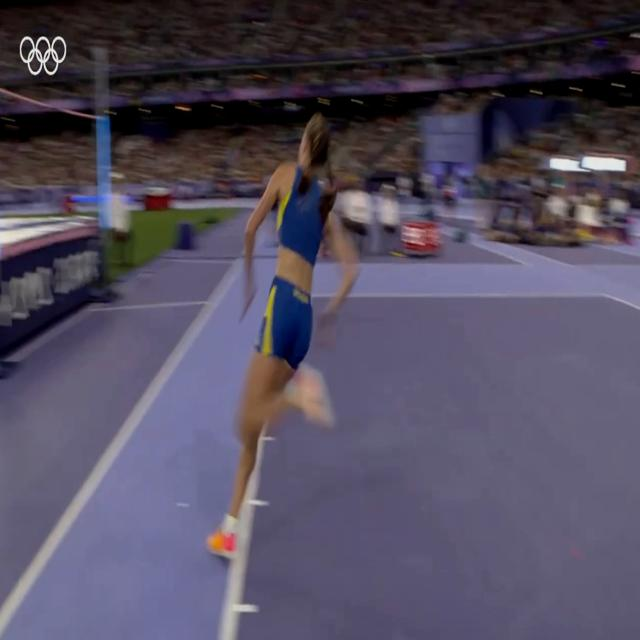run: (204, 114, 364, 566)
